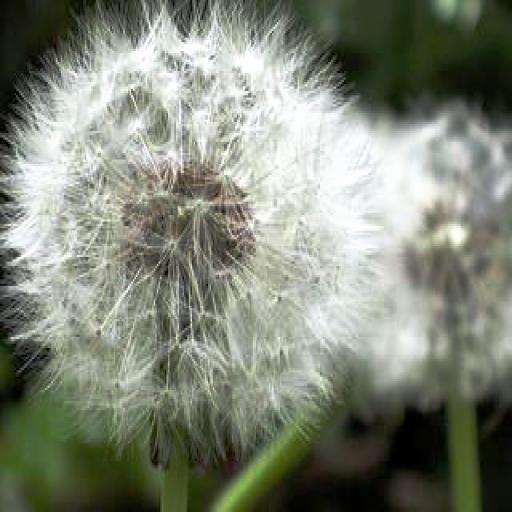dandelion: (363, 98, 512, 401)
